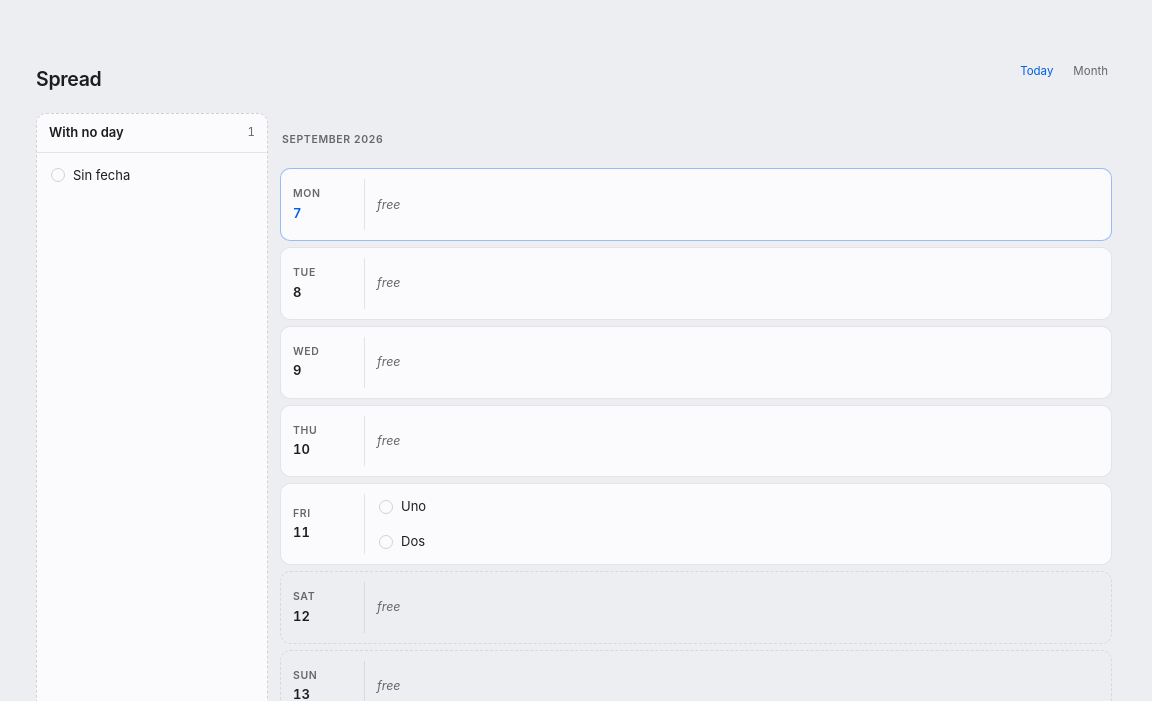
Test: the river of days › asks when the day it landed on is turning heavy, and offers a free one
Press the mouse on the button "Sin fecha" at (152, 175), box x1=43 y1=159 x2=261 y2=192
(page scrolled)
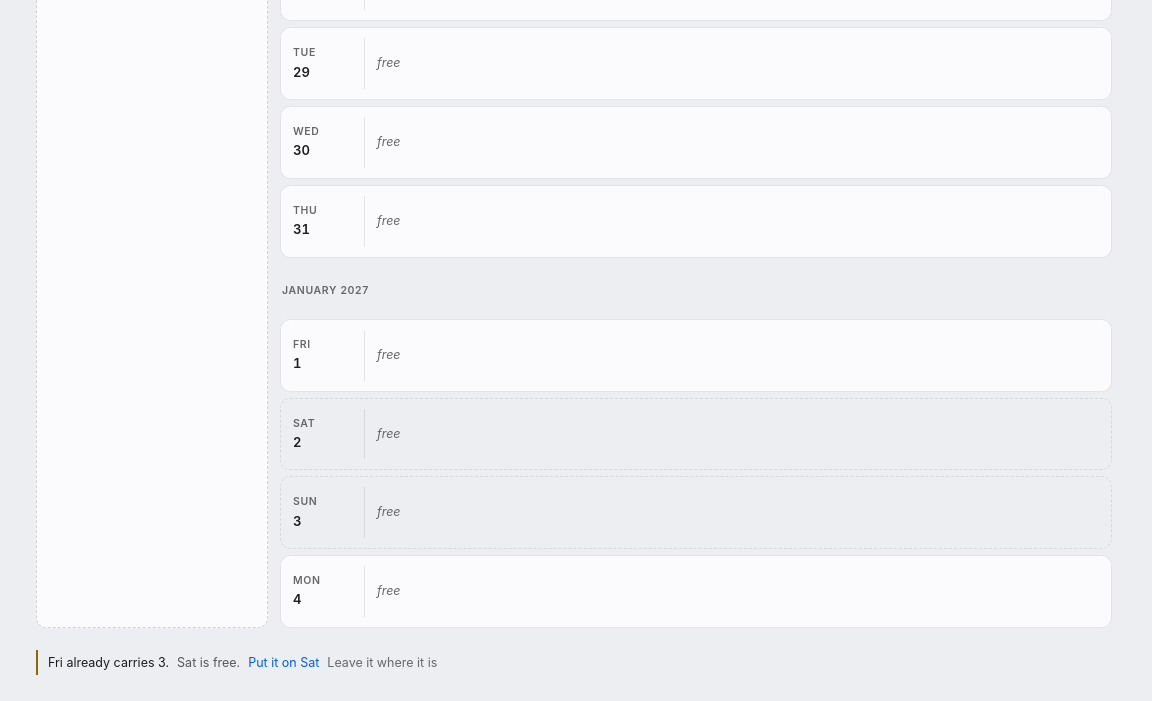
Check: the button "Leave it where it is" is shown, box x1=327 y1=654 x2=437 y2=671
